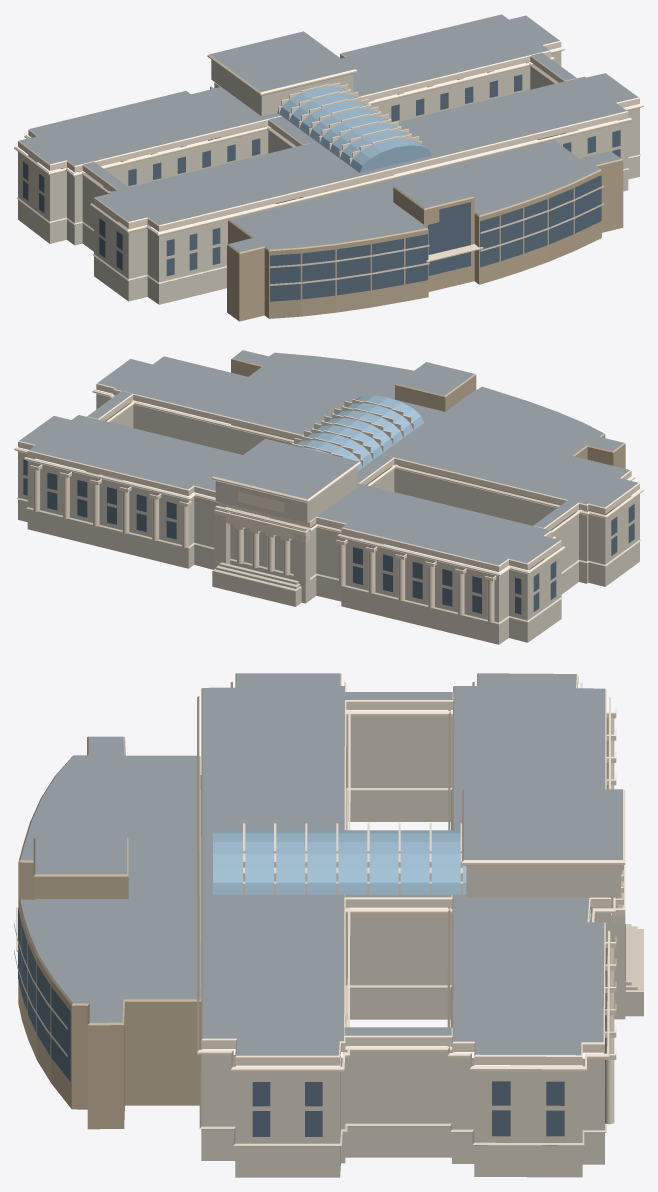
File: stl-missouri-history-museum.glb
The picture shows the model from 3 angles, top to bottom: view 1: azimuth 30°, elevation 25°; view 2: azimuth 150°, elevation 25°; view 3: azimuth 270°, elevation 25°; orthographic projection. The views are drawn at different scales.
Parts seen in each view (by area): view 1: Missouri History Museum; view 2: Missouri History Museum; view 3: Missouri History Museum.
Boxes of the visible parts, box(x1,y1,x2,y2) form: Missouri History Museum: box(14, 14, 643, 321); Missouri History Museum: box(14, 350, 643, 644); Missouri History Museum: box(14, 673, 643, 1177).
Size of the model in its own units: 103 by 19.9 by 70.9.
